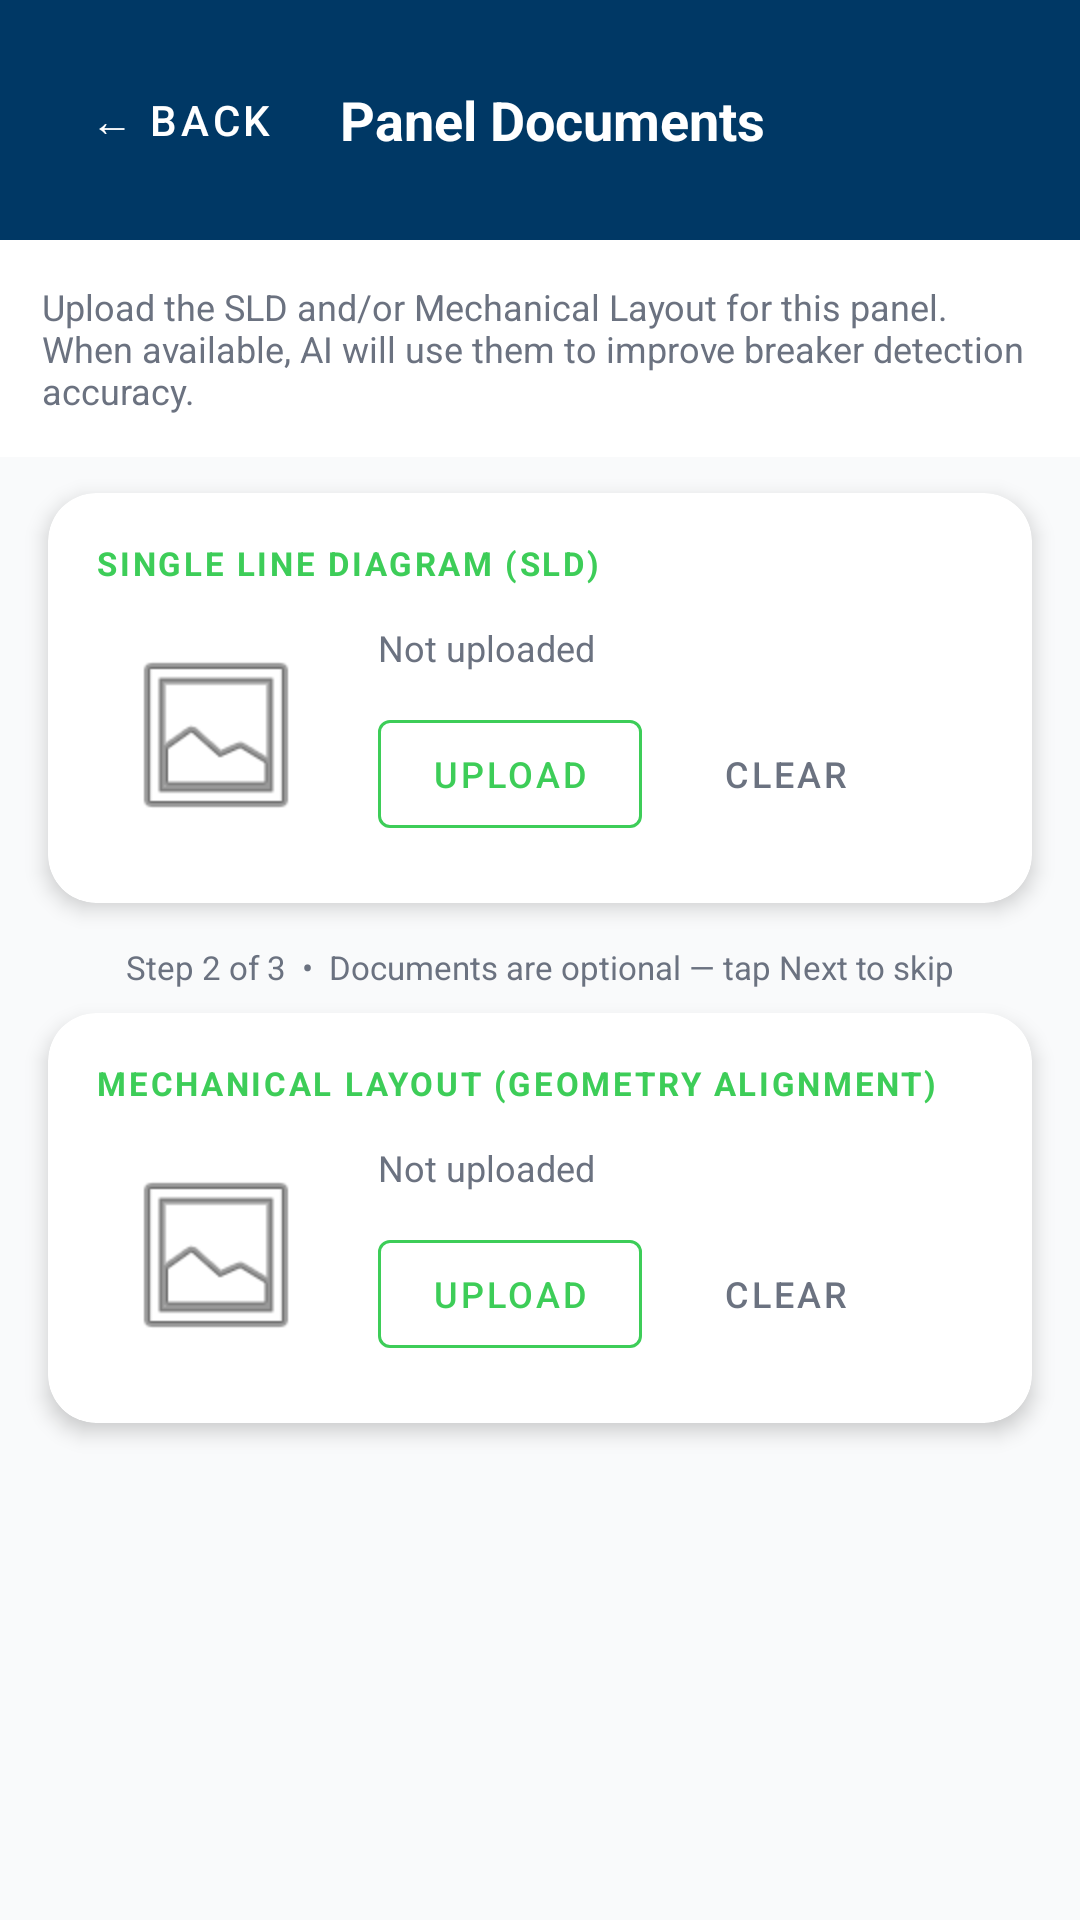

Where to tap for icons on this 1080 x 1920 app screen, as (x=x, y=y):
gallery: (x=216, y=735), (x=216, y=1255)
